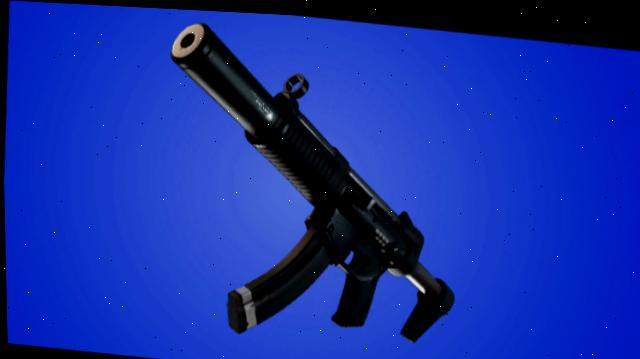rifle: (150, 10, 477, 359)
